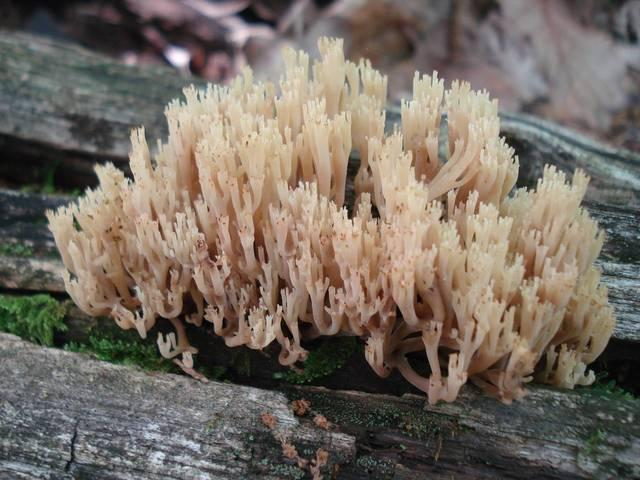edible_mushroom: (43, 34, 616, 406)
